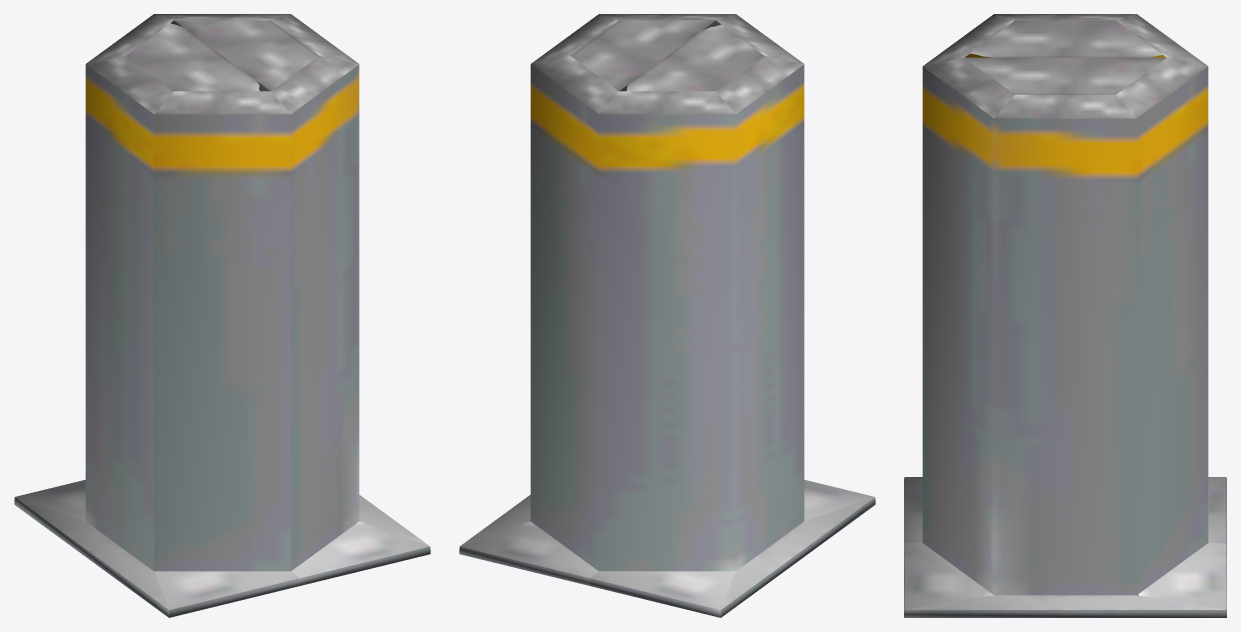
The model's file is Urban_SecurityBollard_Model.fbx.
3 views of the same model, side by side, from view 1: azimuth 30°, elevation 25°; view 2: azimuth 150°, elevation 25°; view 3: azimuth 270°, elevation 25° (orthographic). The views are drawn at different scales.
Parts seen in each view (by area): view 1: Urban_SecurityBollard_Mesh; view 2: Urban_SecurityBollard_Mesh; view 3: Urban_SecurityBollard_Mesh.
Boxes of the visible parts, x1,y1,x2,y2 form: Urban_SecurityBollard_Mesh: (14, 14, 430, 617); Urban_SecurityBollard_Mesh: (459, 14, 875, 617); Urban_SecurityBollard_Mesh: (904, 14, 1226, 617).
Size of the model in its own units: 0.4322 by 0.7475 by 0.4431.
